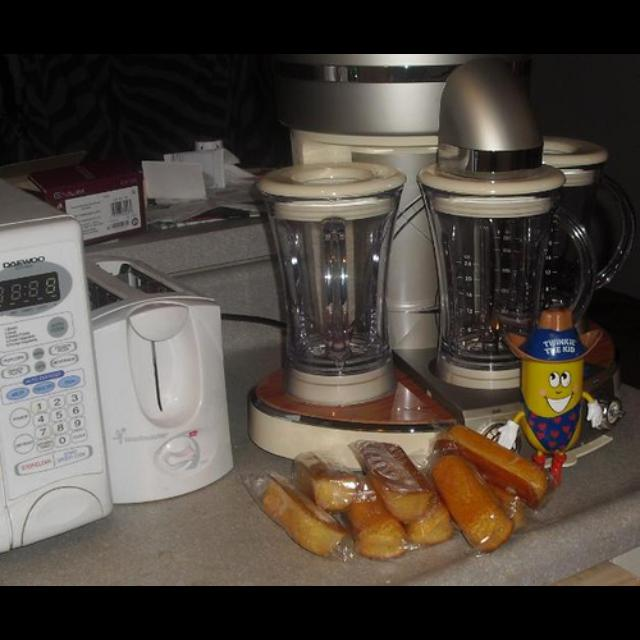Microwave: (1, 178, 115, 555)
